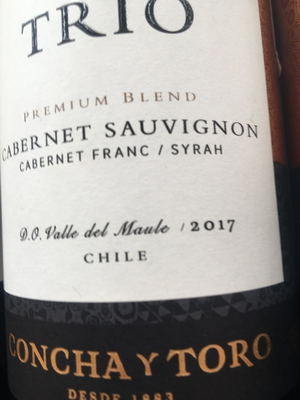trio cabernet sauvignon: (1, 1, 294, 400)
